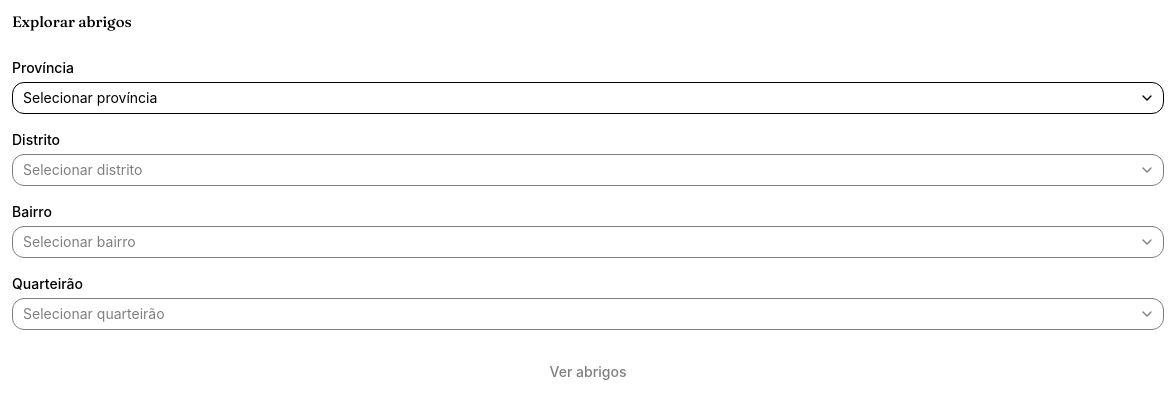
Test case: GeographicPicker › populates distrito options when a província is selected
This screenshot has width=1176, height=397.
Click the dropdown labelled "província" at (90, 97), box 12,82 -> 1164,114
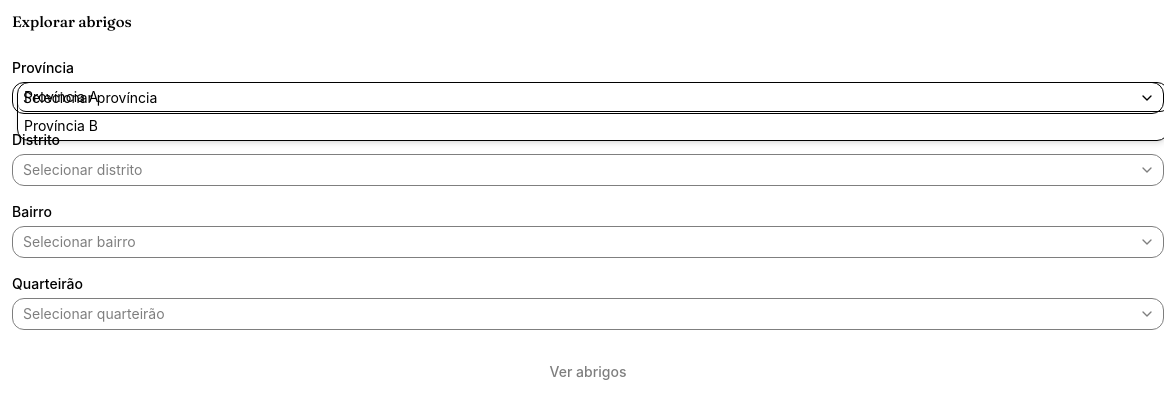
Click the option "Província A" at (61, 96), box 18,82 -> 1164,112
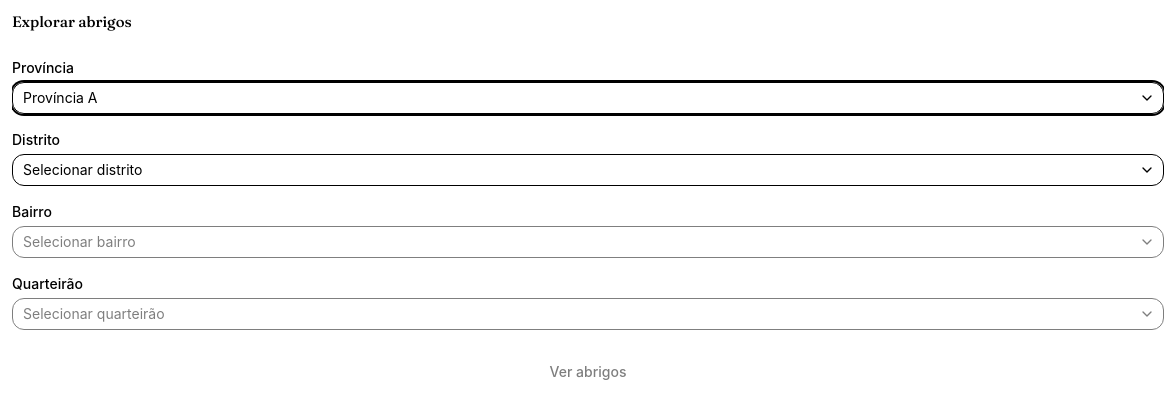
expect the dropdown labelled "Província" reads "Província A": met, box 12,82 -> 1164,114
expect the dropdown labelled "distrito" is enabled: met
Click the dropdown labelled "distrito" at (83, 169), box 12,154 -> 1164,186
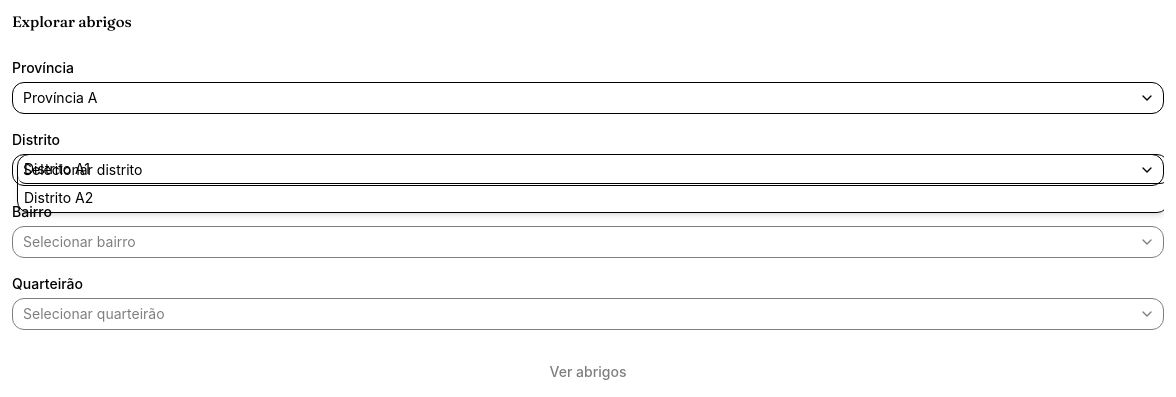
expect the text "Distrito A1" is shown: met, box 24,160 -> 90,176
expect the text "Distrito A2" is shown: met, box 24,188 -> 93,206
